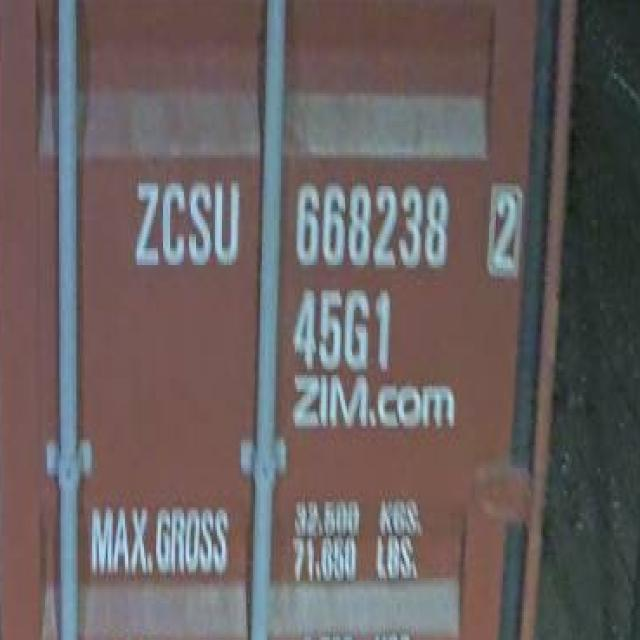dv: (479, 182, 532, 278)
owner: (123, 172, 249, 274)
serial: (289, 172, 456, 270)
size: (279, 284, 402, 374)
